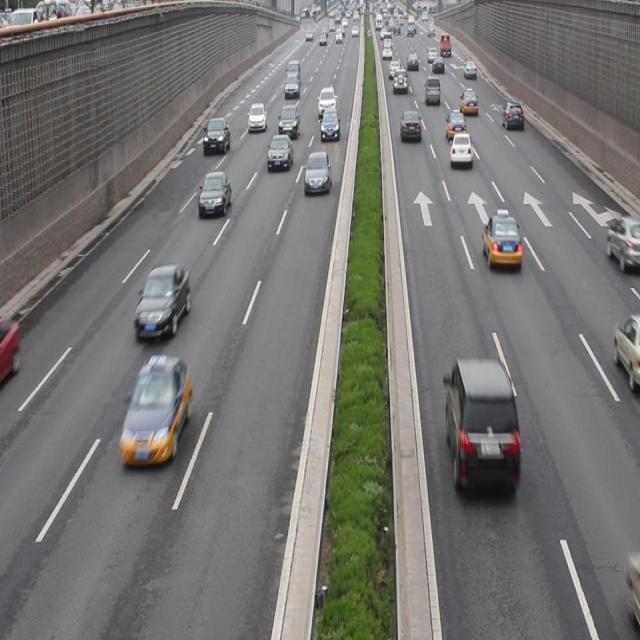car: (445, 363, 520, 499), (122, 356, 190, 465), (133, 264, 190, 342), (481, 212, 520, 272), (611, 313, 640, 386), (605, 215, 640, 269), (198, 171, 230, 214), (203, 115, 230, 154), (304, 150, 328, 190), (267, 135, 292, 170), (276, 103, 298, 138), (448, 132, 471, 164), (399, 111, 420, 141), (446, 108, 466, 139), (320, 109, 339, 139), (502, 102, 522, 129)
